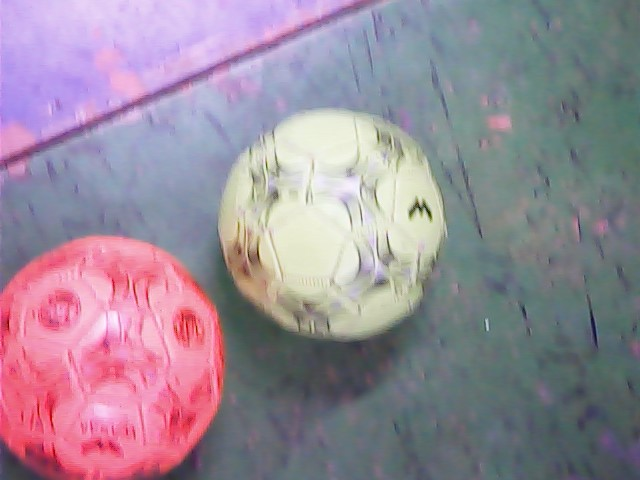Green_ball: (216, 92, 454, 341)
Orange_ball: (2, 230, 236, 479)
